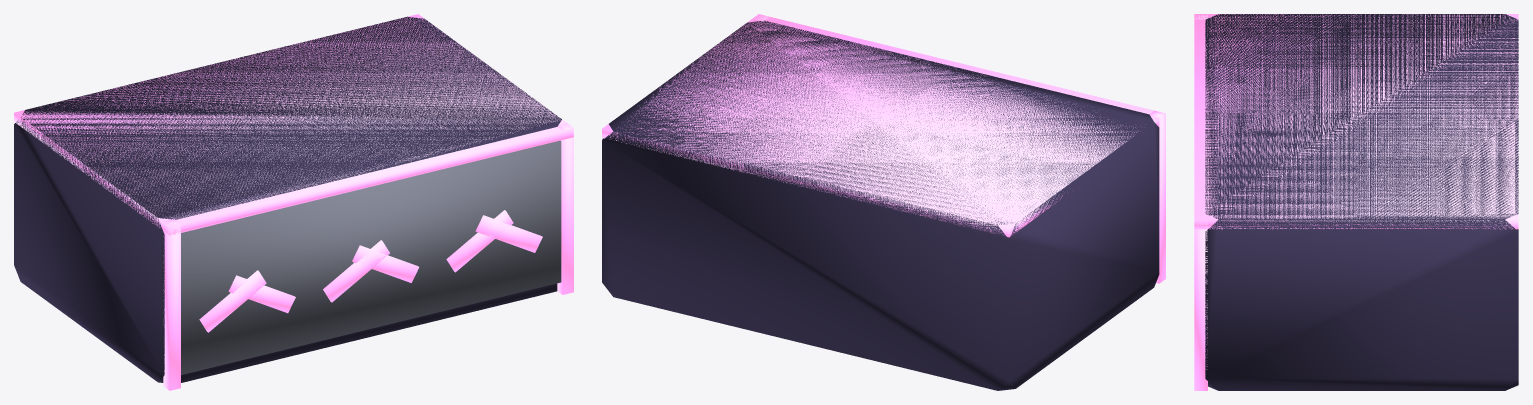
Rendered from OBS_LowJump_Barrier.glb.
3 renders of one model, left to right at view 1: azimuth 30°, elevation 25°; view 2: azimuth 150°, elevation 25°; view 3: azimuth 270°, elevation 25°, orthographic. The views are drawn at different scales.
Parts seen in each view (by area): view 1: body, faceplate, top_strip, post_-1, post_1, chevron_0_-1, chevron_1_-1, chevron_2_1, chevron_1_1, chevron_2_-1, chevron_0_1; view 2: body, top_strip, post_-1; view 3: body, top_strip, post_1.
Boxes of the visible parts, bbox=[...] form: body: bbox=[14, 16, 561, 382]; faceplate: bbox=[181, 140, 561, 374]; top_strip: bbox=[14, 14, 573, 235]; post_-1: bbox=[163, 219, 180, 390]; post_1: bbox=[557, 123, 573, 294]; chevron_0_-1: bbox=[199, 270, 266, 332]; chevron_1_-1: bbox=[323, 240, 389, 302]; chevron_2_1: bbox=[475, 215, 542, 252]; chevron_1_1: bbox=[352, 245, 419, 282]; chevron_2_-1: bbox=[446, 210, 513, 272]; chevron_0_1: bbox=[228, 275, 295, 313]; body: bbox=[602, 20, 1159, 390]; top_strip: bbox=[602, 14, 1165, 237]; post_-1: bbox=[1149, 110, 1165, 283]; body: bbox=[1205, 14, 1518, 390]; top_strip: bbox=[1194, 14, 1518, 229]; post_1: bbox=[1194, 214, 1207, 390].
Bounding box in the file's own units: 1.8 × 0.7 × 1.2.
